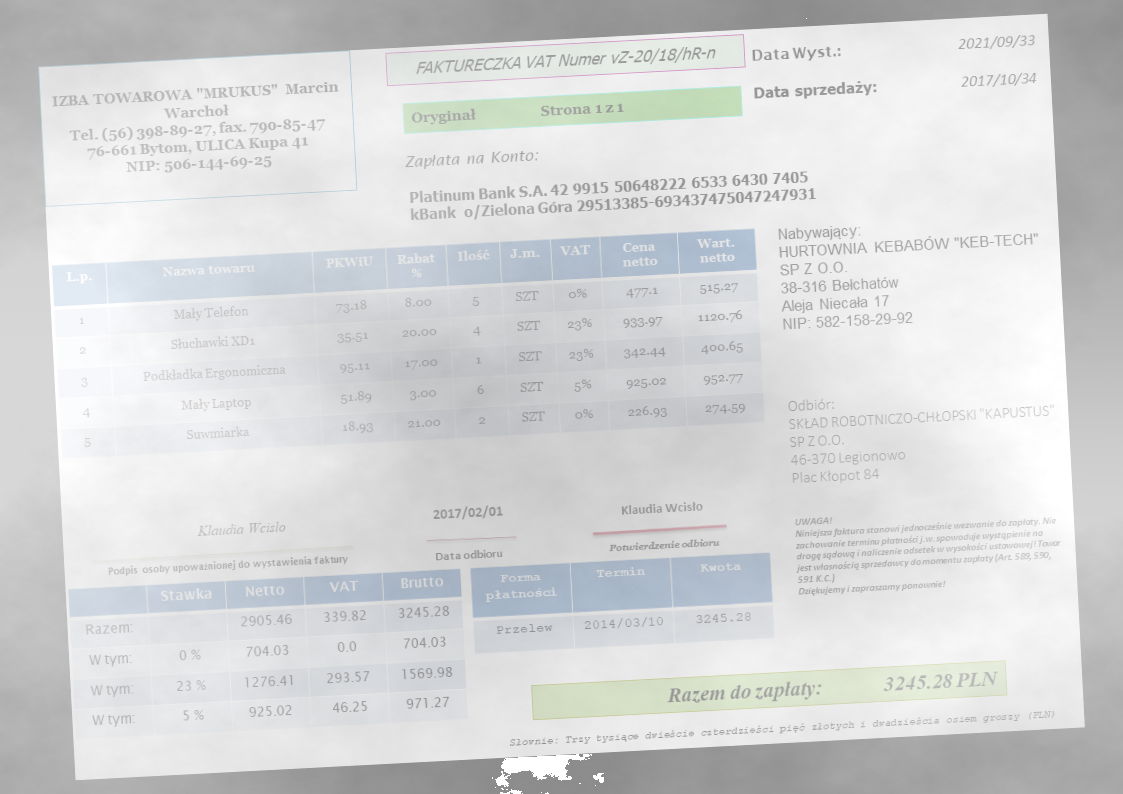Table: (50, 226, 766, 461), (66, 567, 468, 742), (468, 550, 777, 656)
TextBox: (776, 211, 1046, 333), (48, 76, 344, 183), (786, 384, 1061, 489), (791, 501, 1067, 600), (506, 707, 1058, 750), (405, 167, 818, 224), (664, 667, 1000, 710), (412, 42, 720, 79), (408, 95, 627, 128), (106, 551, 352, 579), (402, 144, 542, 173), (749, 76, 881, 105), (750, 41, 844, 66), (606, 535, 722, 555), (194, 516, 288, 540), (955, 30, 1037, 55), (958, 67, 1039, 90), (429, 502, 506, 524), (617, 499, 704, 518), (432, 546, 503, 563)
